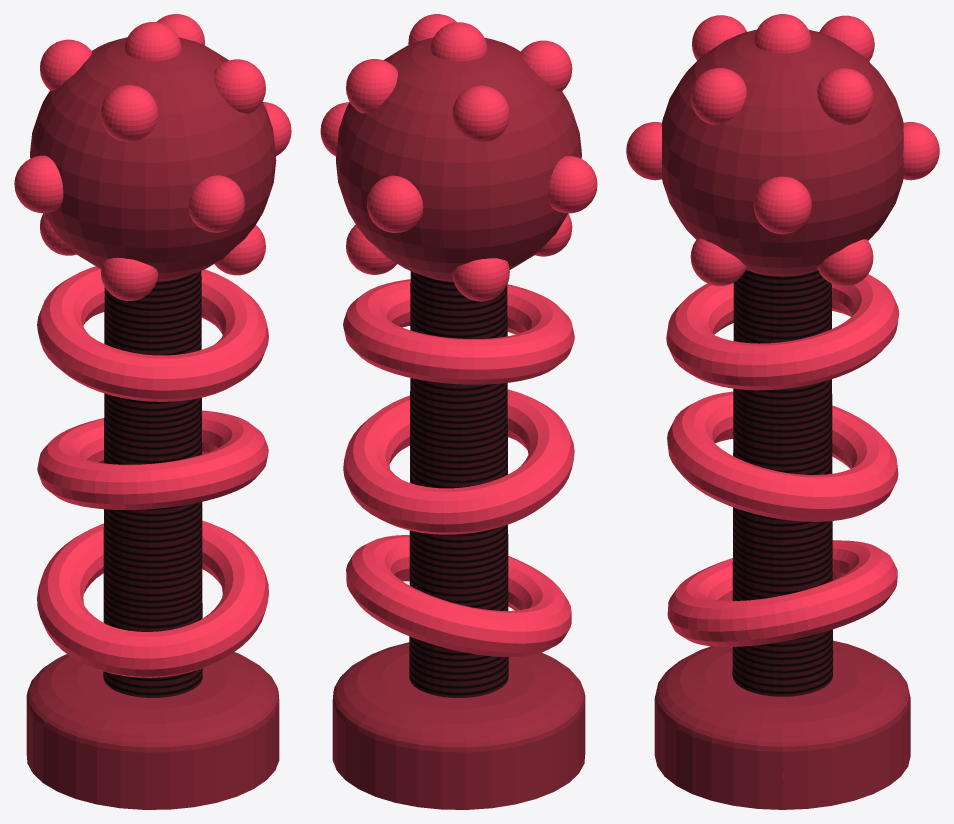
The model's file is tower_tesla_invalid.obj.
The picture shows the model from 3 angles, left to right: view 1: azimuth 30°, elevation 25°; view 2: azimuth 150°, elevation 25°; view 3: azimuth 270°, elevation 25°; orthographic projection.
Visible parts, largest first — view 1: Cylinder; view 2: Cylinder; view 3: Cylinder.
Boxes of the visible parts, x1=… form: Cylinder: x1=14, y1=14, x2=291, y2=809; Cylinder: x1=320, y1=14, x2=597, y2=809; Cylinder: x1=626, y1=14, x2=939, y2=809.
Size of the model in its own units: 2.9 by 7.53 by 2.89.
1 material, 1 textured.
